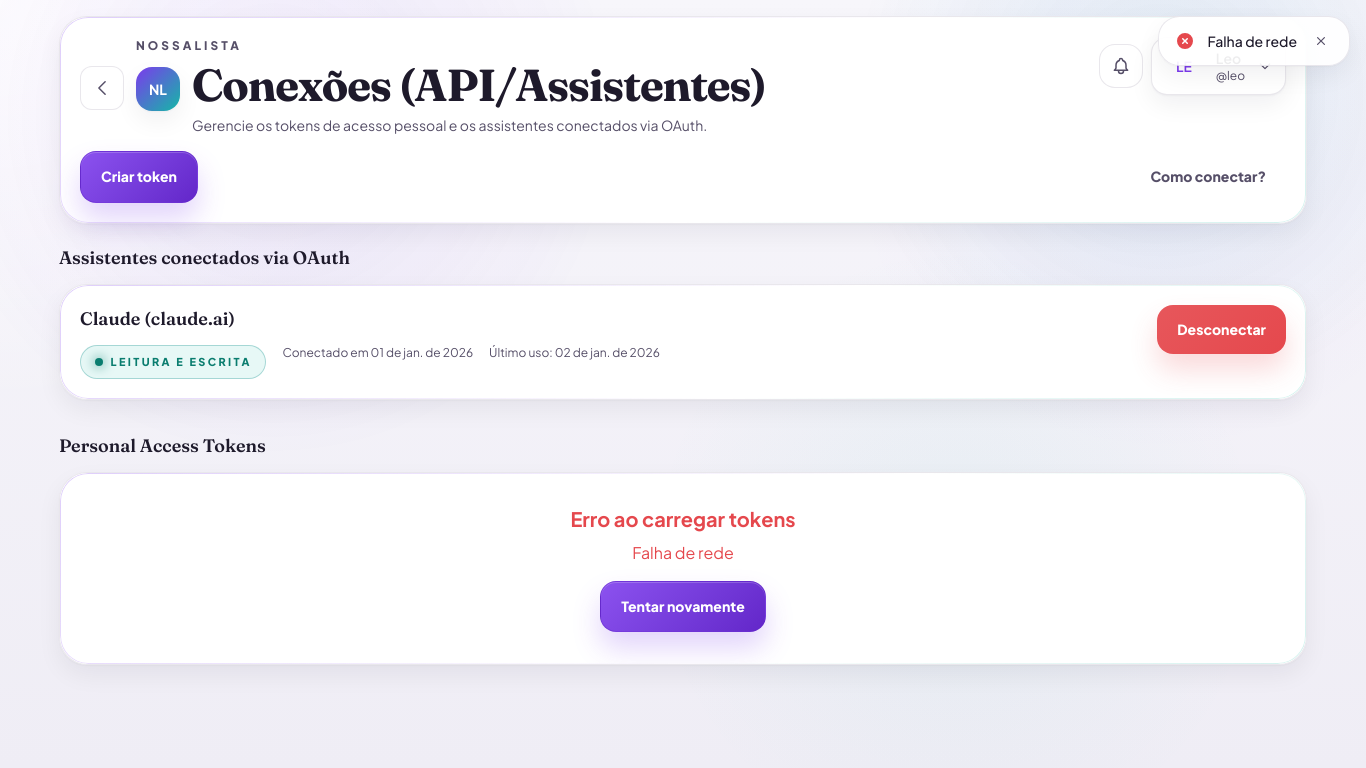
Scenario: Connections › exibe erro ao falhar o carregamento dos tokens e permite tentar novamente
The image size is (1366, 768).
Check: the text "Erro ao carregar tokens" is shown, box [570,506,796,530]
Click the button "Tentar novamente": (683, 606) [600,580,766,632]
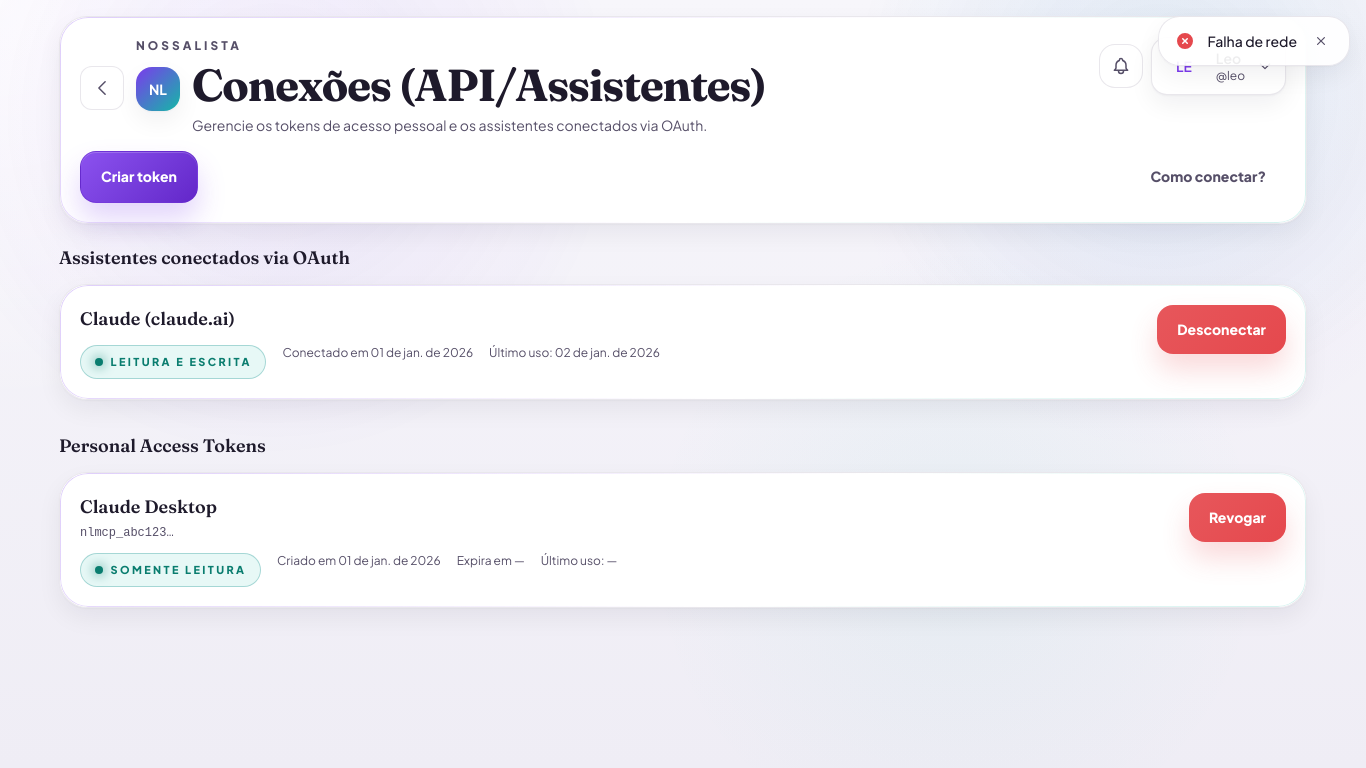
Check: the text "Claude Desktop" is shown, box [80,494,217,518]
